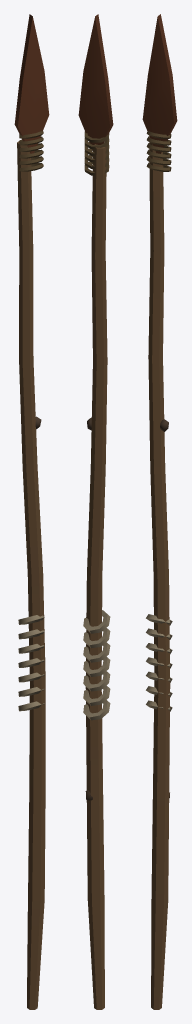
Rendered from spear.glb.
The picture shows the model from 3 angles, left to right: view 1: azimuth 30°, elevation 25°; view 2: azimuth 150°, elevation 25°; view 3: azimuth 330°, elevation 25°; orthographic projection.
Parts seen in each view (by area): view 1: spear; view 2: spear; view 3: spear.
Part boxes in pixels (x1=…): spear: x1=14, y1=14, x2=49, y2=1009; spear: x1=78, y1=14, x2=113, y2=1009; spear: x1=142, y1=14, x2=177, y2=1009.
Size of the model in its own units: 0.08 by 2.41 by 0.0616.
